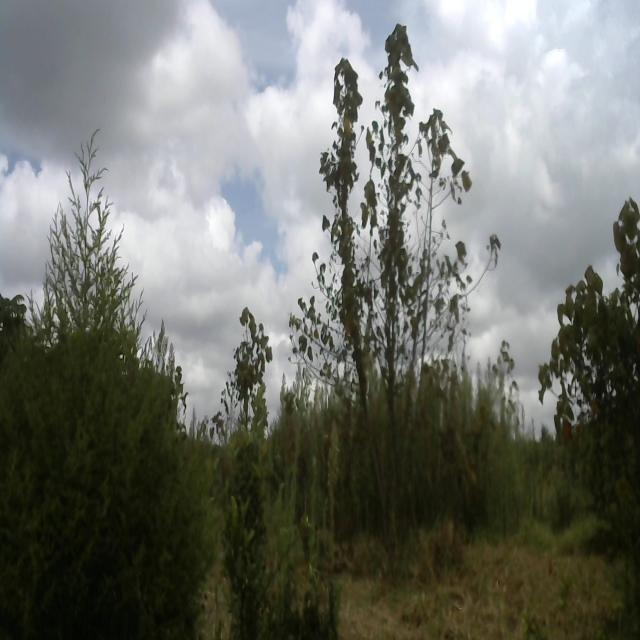cedrus: (0, 125, 211, 636)
other: (310, 15, 503, 482), (539, 194, 640, 505), (224, 304, 268, 418)
